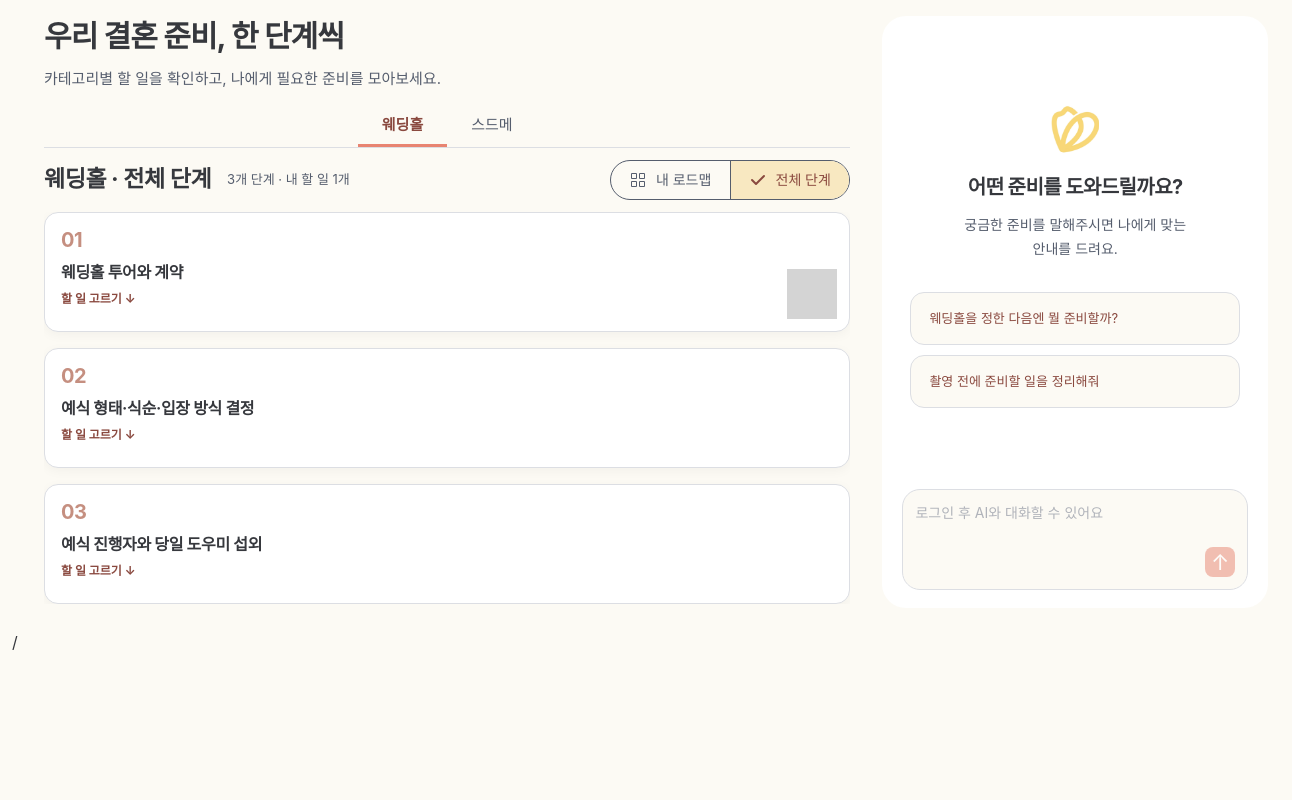
준비 로드맵 보기 전환 › 비로그인 내 로드맵은 카테고리를 유지하고 로컬에 담긴 할 일만 조회 없이 보여준다
expect the button "01 웨딩홀 투어와 계약 할 일 고르기 ↓" is shown: met, box left=44, top=212, right=850, bottom=332
What coordinates should you click on to do the following:
click the button "스드메"
I would click on:
 (492, 124)
Its box is left=447, top=102, right=537, bottom=146.
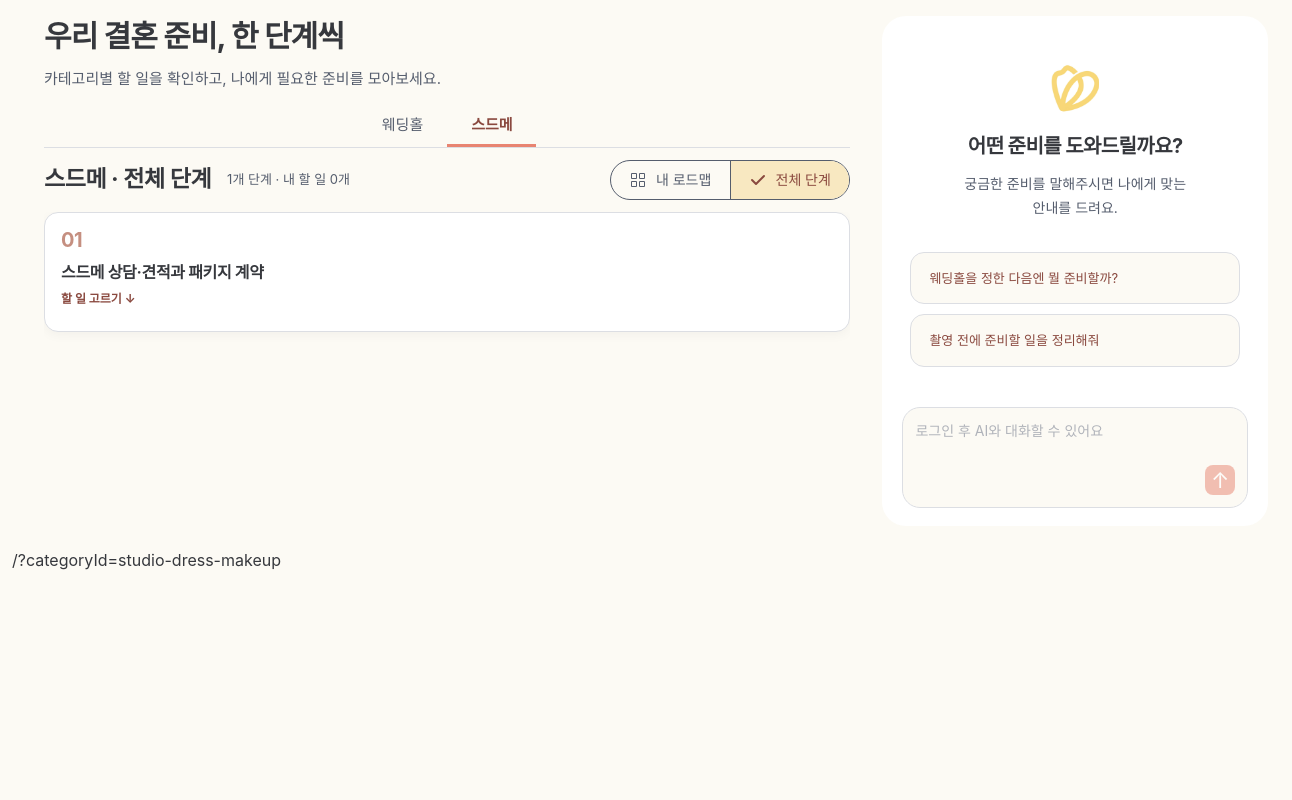
What coordinates should you click on to do the following:
click the button "내 로드맵"
I would click on:
 (671, 180)
Its box is left=611, top=160, right=730, bottom=198.
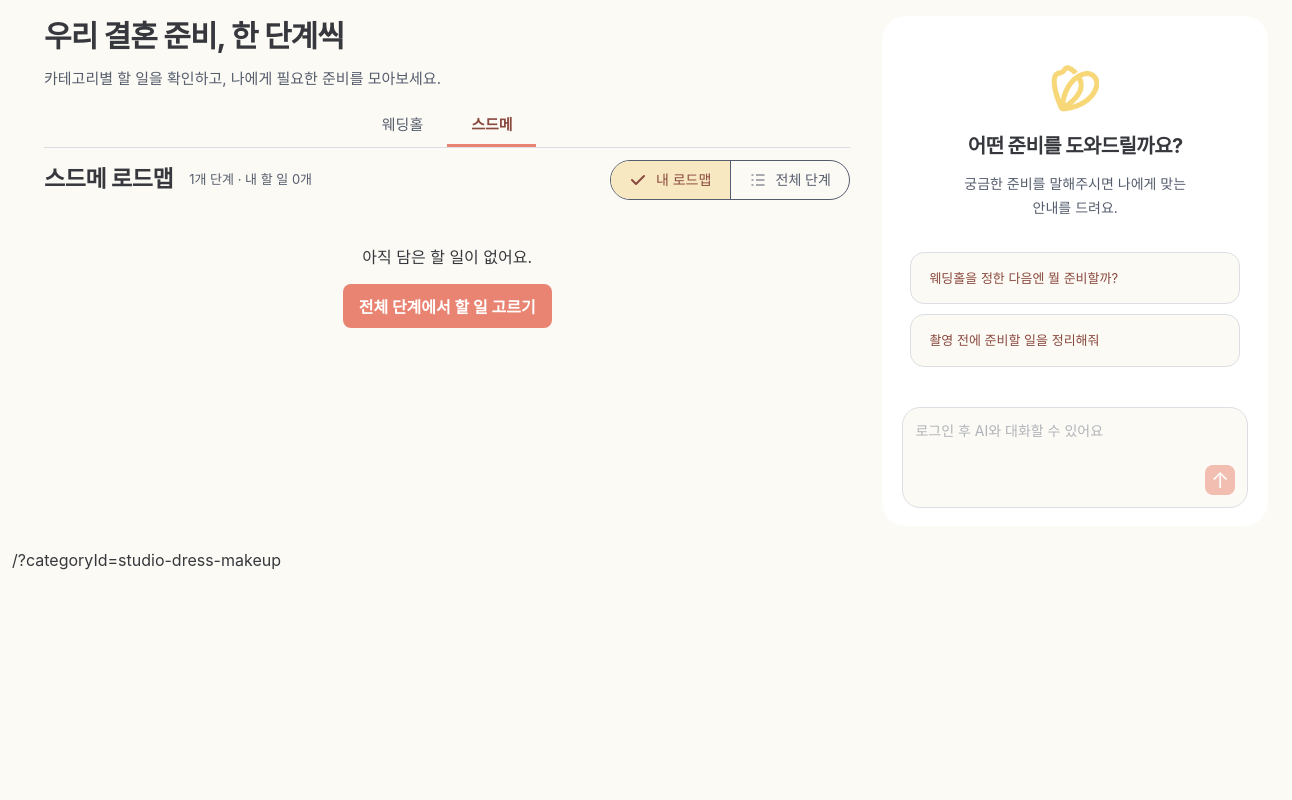
expect the text "1개 단계 · 내 할 일 0개" is shown: met, box left=189, top=170, right=312, bottom=189
expect the text "아직 담은 할 일이 없어요." is shown: met, box left=362, top=244, right=532, bottom=268
expect the heading "스드메 로드맵" is shown: met, box left=44, top=163, right=173, bottom=196
What coordinates should you click on to do the following:
click the button "웨딩홀"
I would click on:
 (402, 124)
Its box is left=358, top=102, right=447, bottom=146.
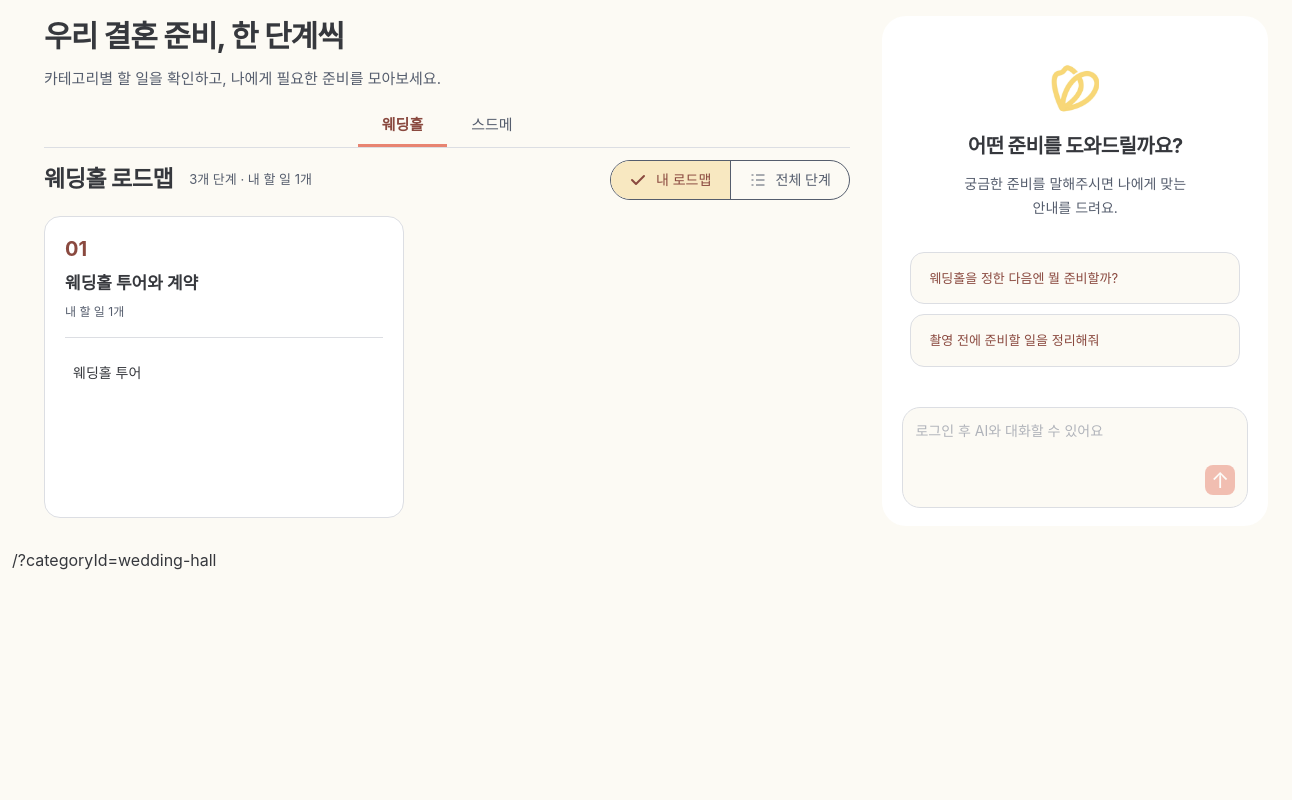
expect the heading "웨딩홀 로드맵" is shown: met, box left=44, top=163, right=173, bottom=196
expect the text "웨딩홀 투어" is shown: met, box left=73, top=364, right=141, bottom=381
expect the text "3개 단계 · 내 할 일 1개" is shown: met, box left=189, top=170, right=312, bottom=189
What coordinates should you click on to do the following:
click the button "스드메"
I would click on:
 (492, 124)
Its box is left=447, top=102, right=537, bottom=146.
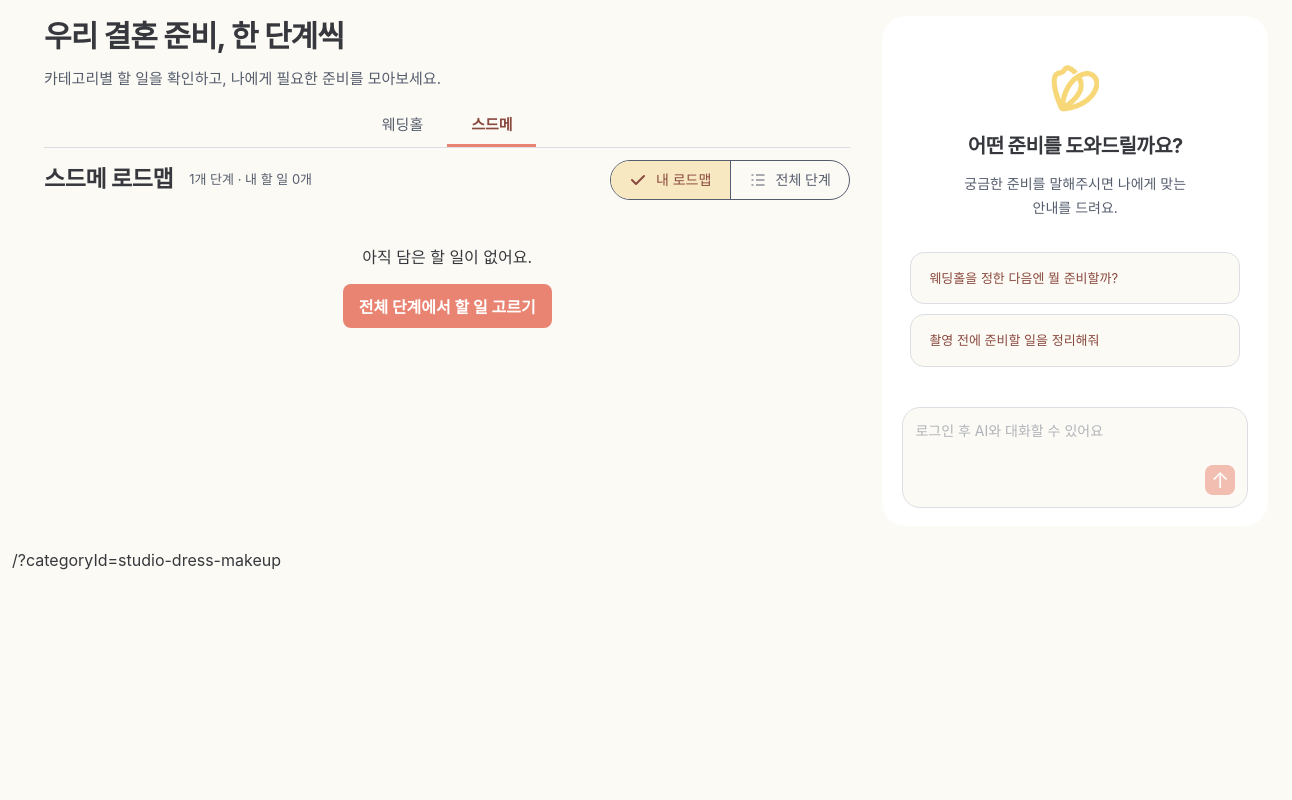
What coordinates should you click on to do the following:
click the button "전체 단계에서 할 일 고르기"
I would click on:
 (447, 306)
Its box is left=343, top=284, right=552, bottom=328.
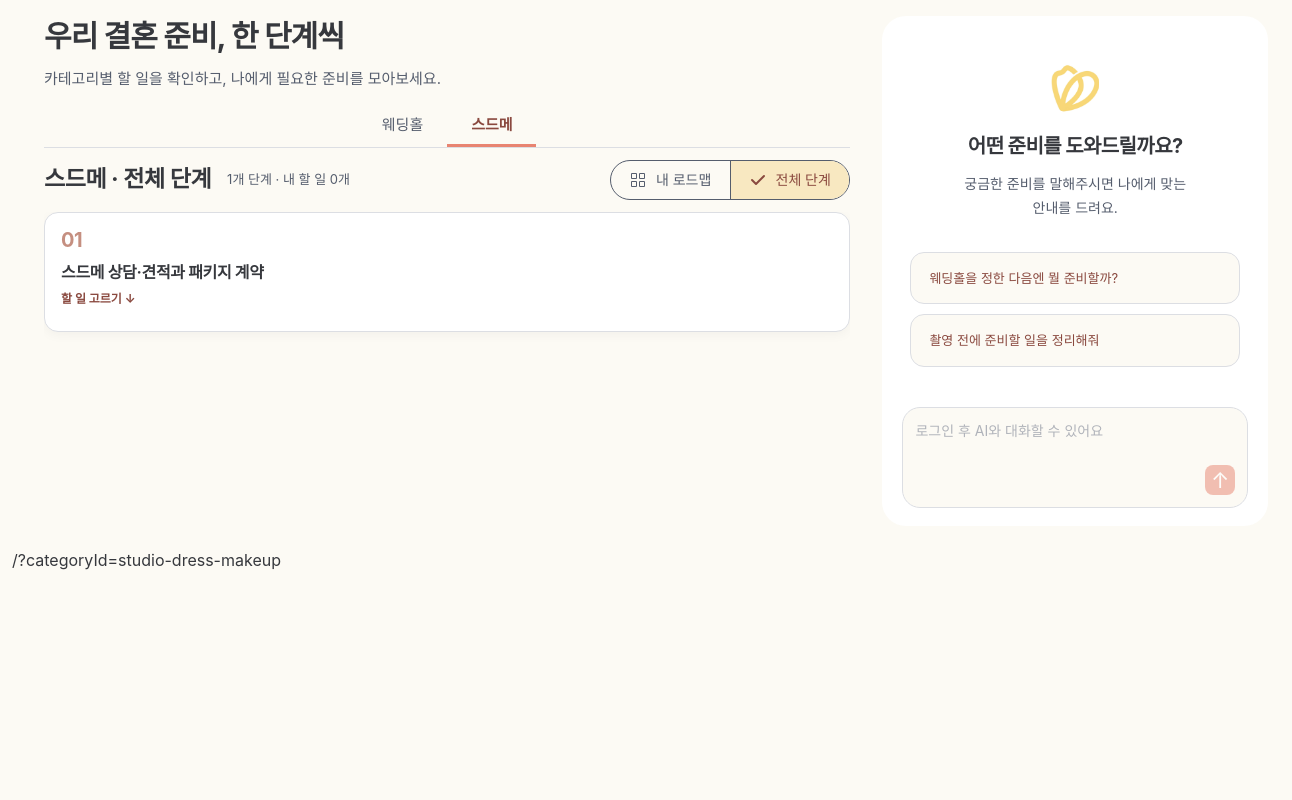
expect the heading "스드메 · 전체 단계" is shown: met, box left=44, top=163, right=211, bottom=196
expect the element named "전체 단계 목록" is shown: met, box left=44, top=212, right=850, bottom=332
